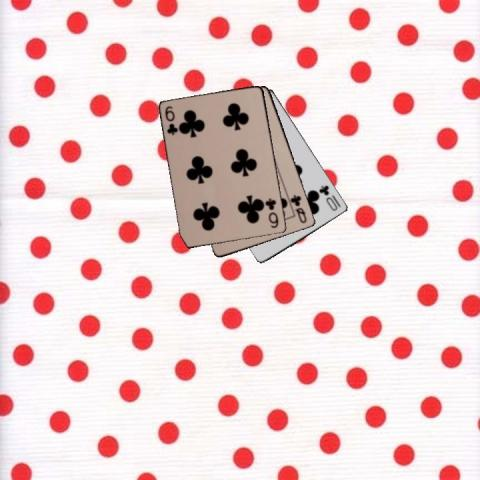10c: (316, 182, 343, 213)
6c: (162, 103, 179, 137), (263, 196, 280, 229)
Qc: (288, 192, 308, 225)
